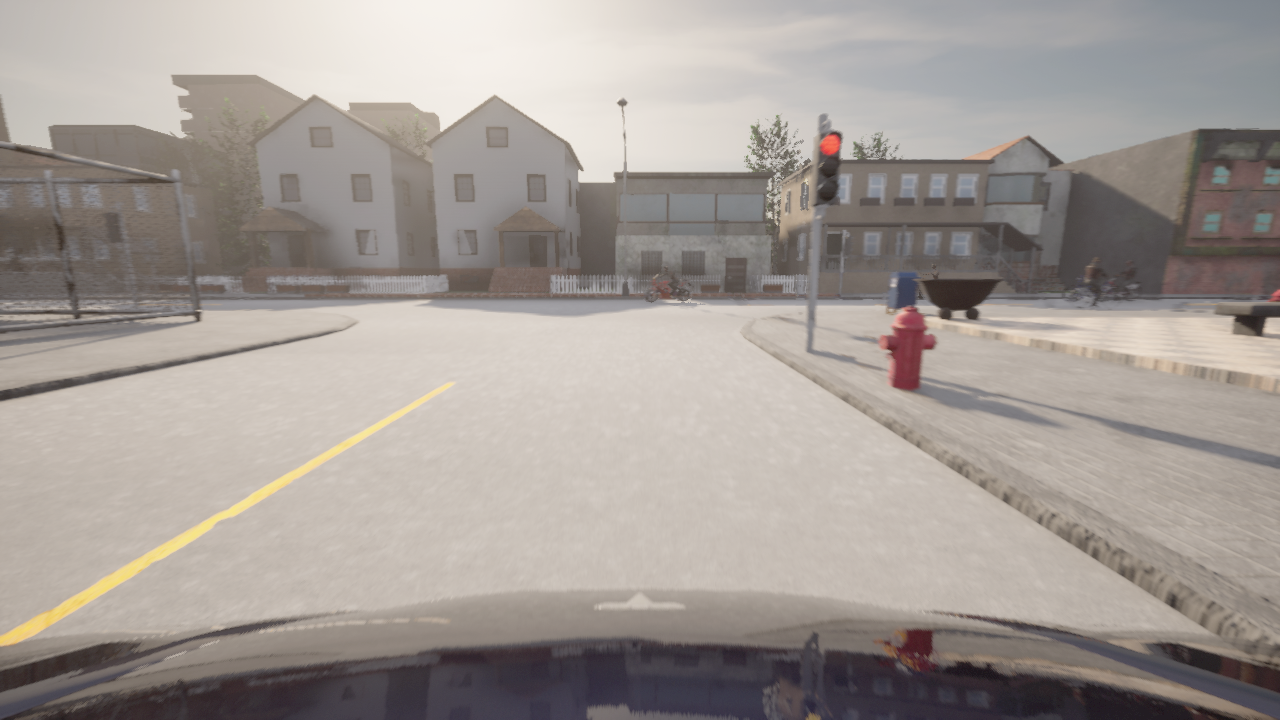cyclist: (0, 588, 1279, 719), (1070, 276, 1121, 308), (645, 274, 692, 303), (1063, 275, 1108, 301), (1104, 275, 1141, 300), (917, 271, 928, 297)
